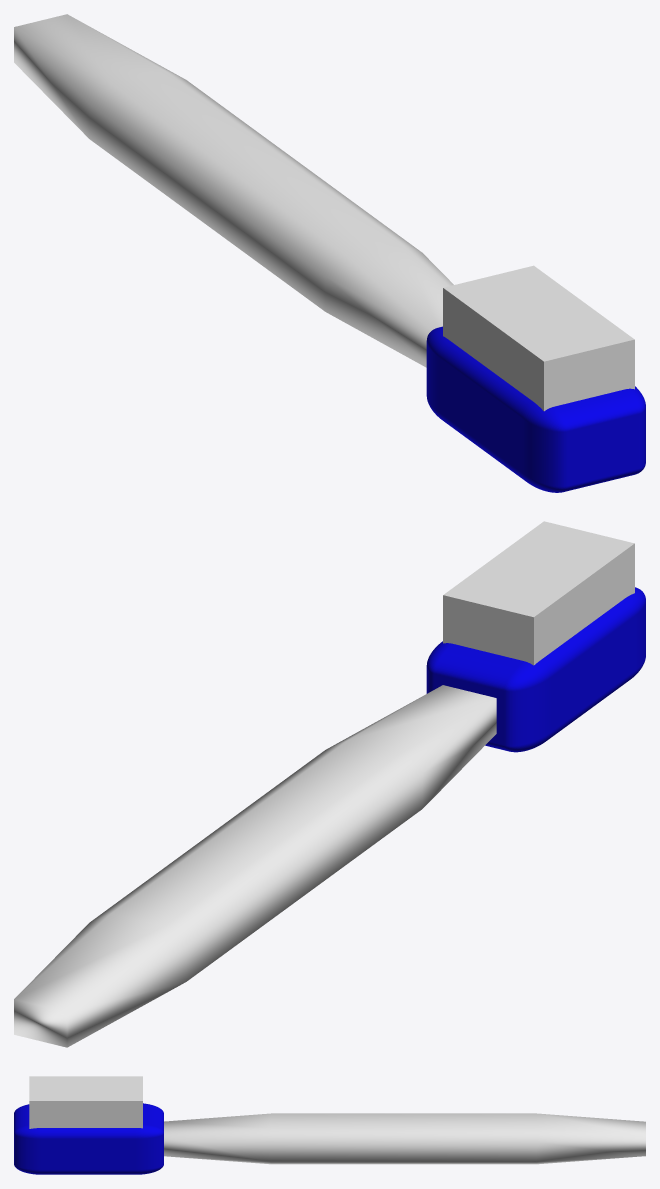
Rendered from dis_fircasi (1).fbx.
3 renders of one model, top to bottom at view 1: azimuth 30°, elevation 25°; view 2: azimuth 150°, elevation 25°; view 3: azimuth 270°, elevation 25°, orthographic. The views are drawn at different scales.
Visible parts, largest first — view 1: Cube, Cube.001, Cube.002; view 2: Cube, Cube.002, Cube.001; view 3: Cube, Cube.001, Cube.002.
Part boxes in pixels (x1,y1,x2,y2): Cube: (14,14,453,367); Cube.001: (426,326,645,492); Cube.002: (443,265,634,411); Cube: (14,685,496,1047); Cube.002: (443,521,634,665); Cube.001: (426,587,645,752); Cube: (164,1113,645,1164); Cube.001: (14,1103,163,1174); Cube.002: (29,1076,142,1128).
Size of the model in its own units: 126 by 143 by 1092.
